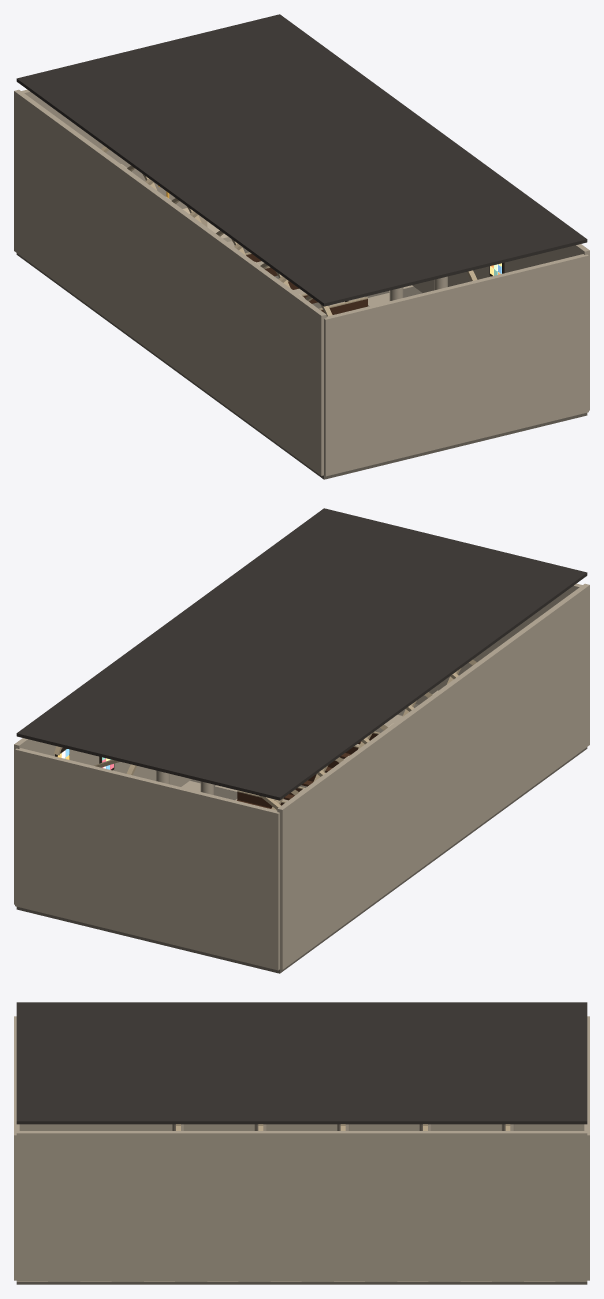
Rendered from burgos.glb.
3 views of the same model, one above another, from view 1: azimuth 30°, elevation 25°; view 2: azimuth 150°, elevation 25°; view 3: azimuth 270°, elevation 25° (orthographic). The views are drawn at different scales.
Bounding box in the file's own units: 18.15 × 11.38 × 36.35.
